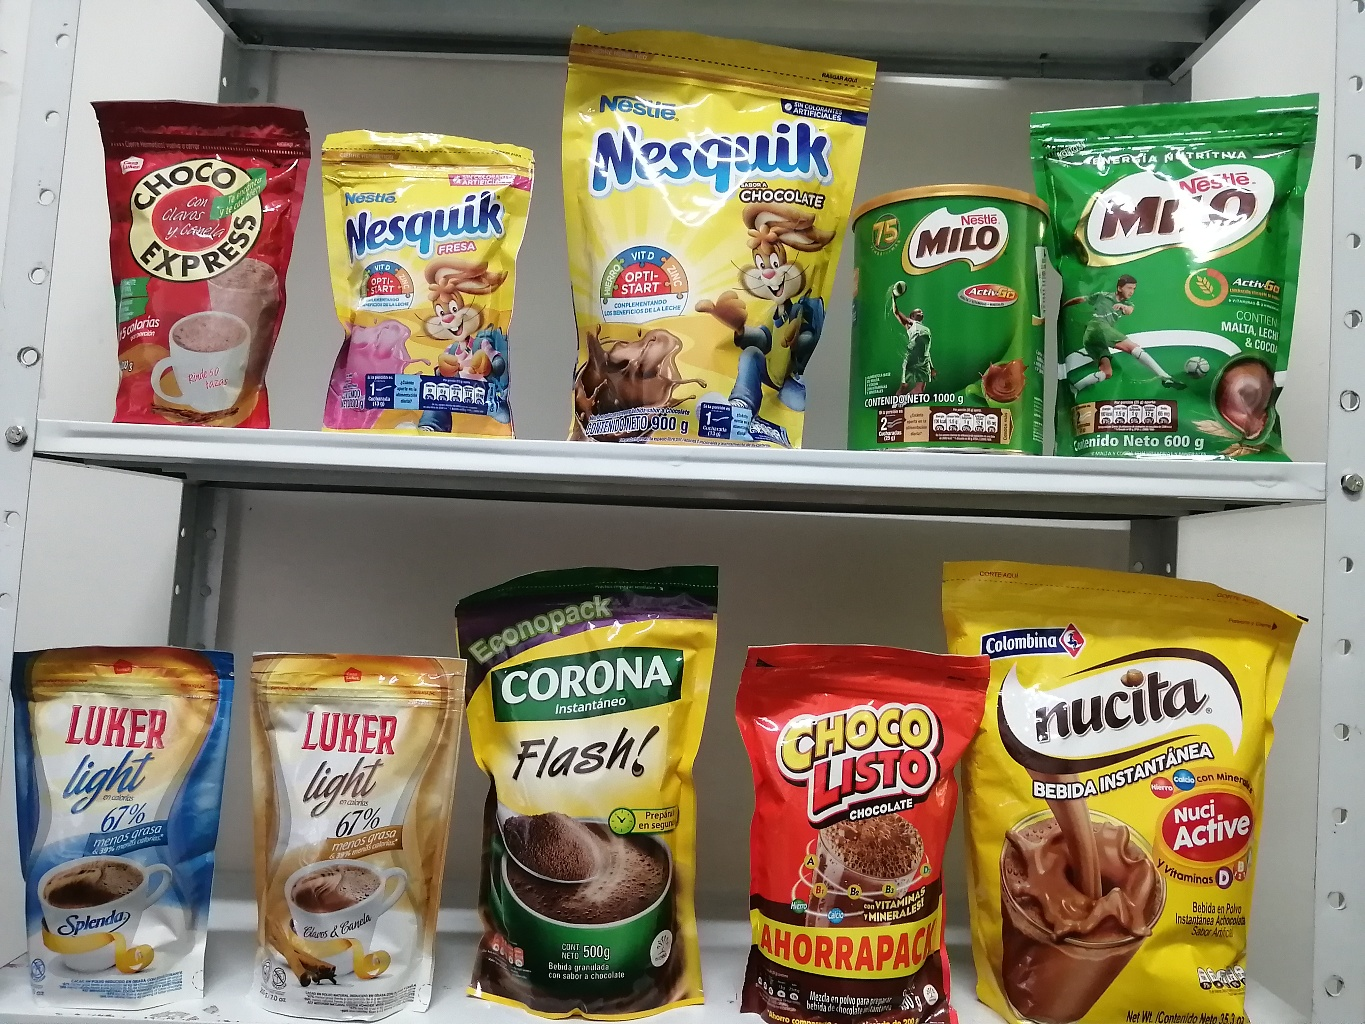COL0170103DYP40000: (748, 646, 967, 1024)
COL0170305DYP20000: (321, 124, 535, 450)
